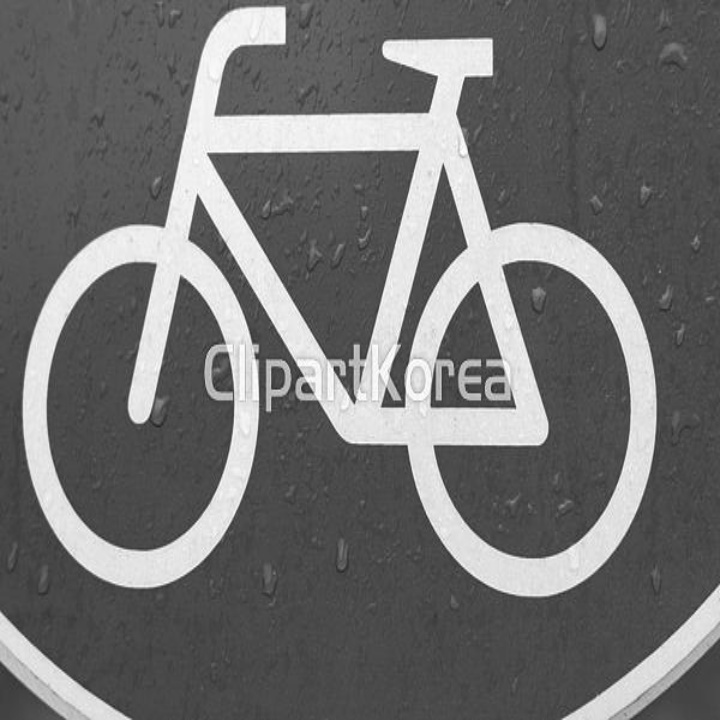bicycle: (13, 1, 665, 613)
